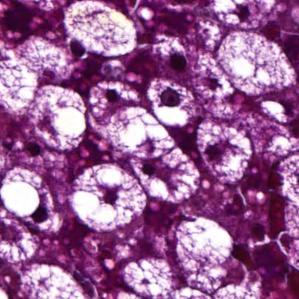ballooning: (71, 160, 148, 233), (62, 0, 139, 60), (193, 119, 256, 186), (170, 215, 236, 268), (144, 76, 200, 131)
